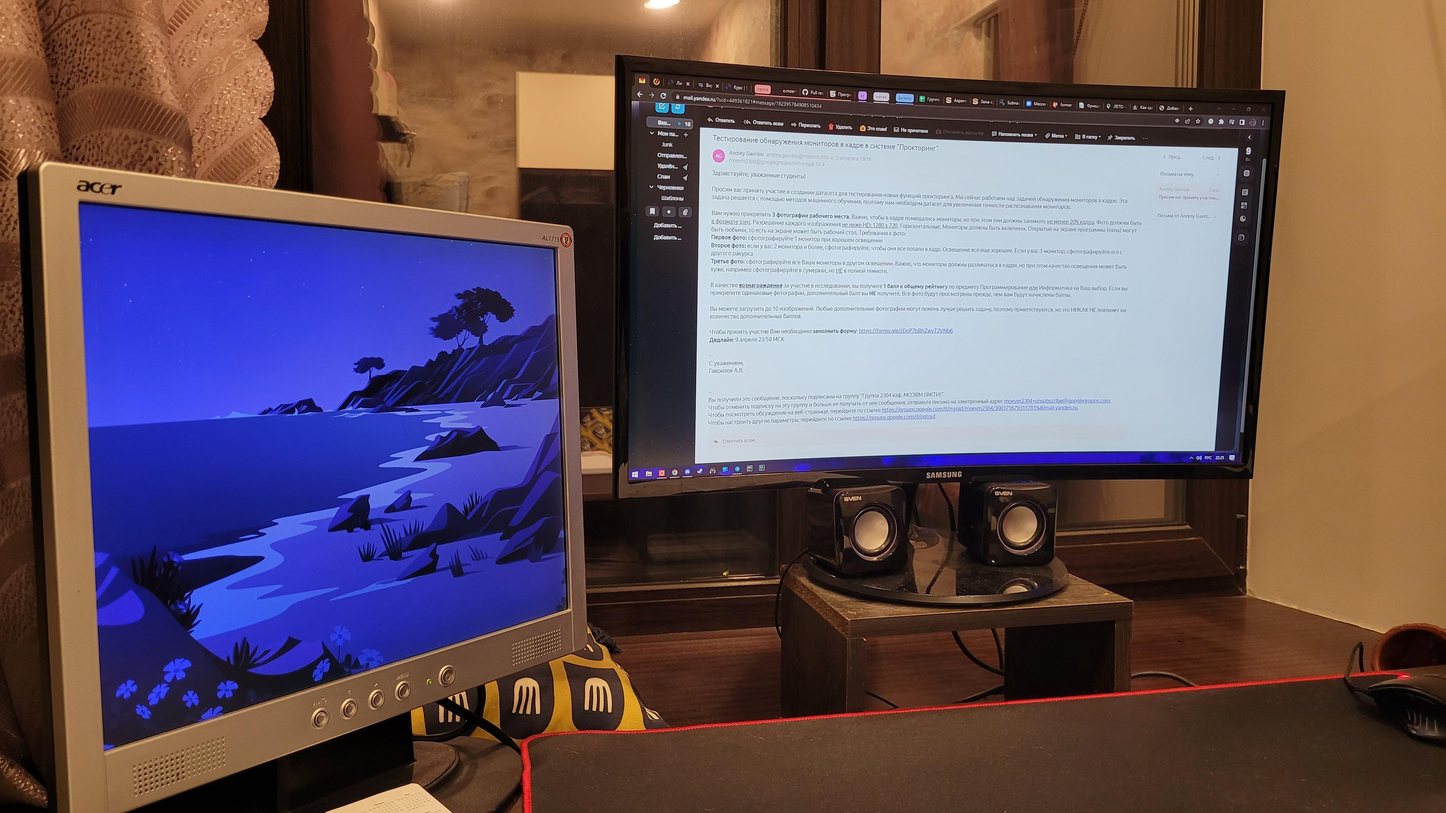monitor: (14, 143, 592, 813), (603, 38, 1289, 505)
